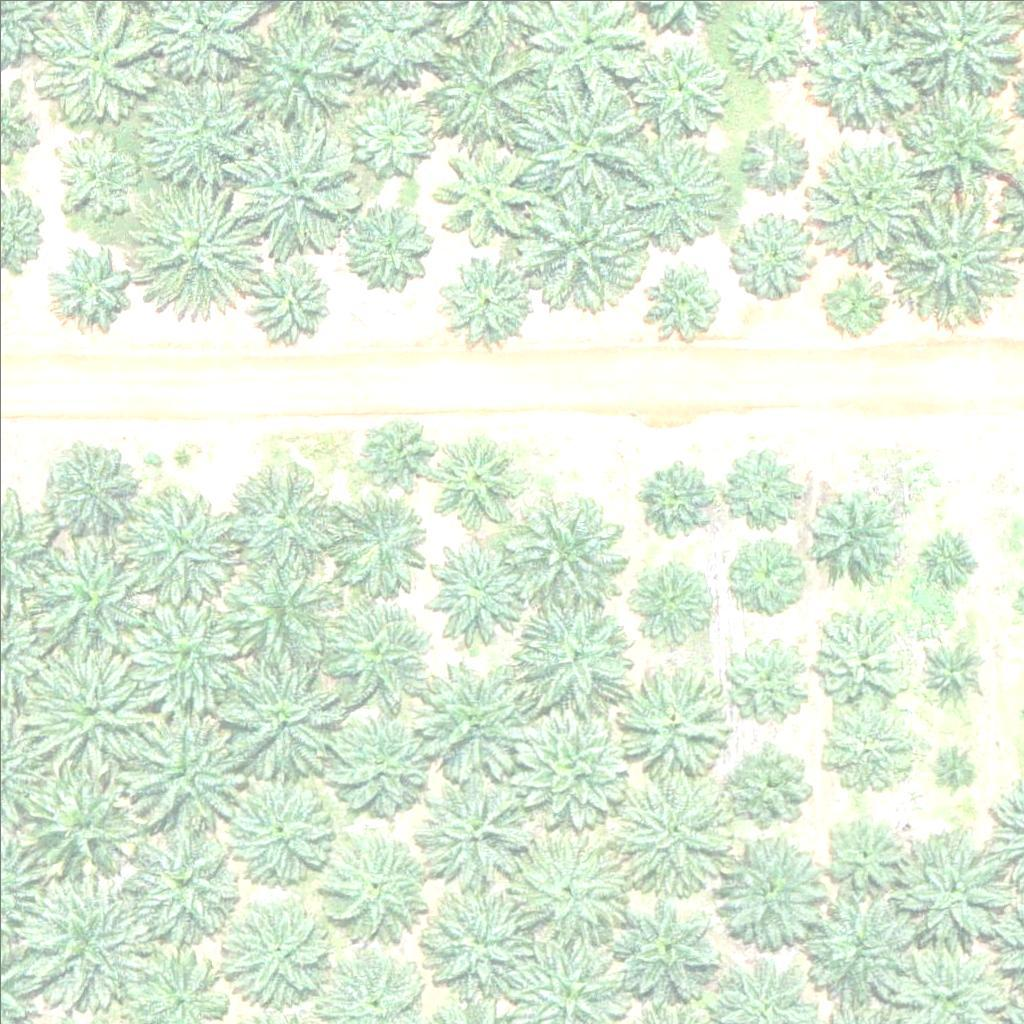Kelapa_Sawit: (134, 179, 259, 305), (227, 121, 352, 247), (520, 180, 645, 306), (890, 185, 1015, 311), (22, 643, 147, 769), (23, 767, 148, 893), (23, 881, 148, 1007), (120, 808, 245, 934), (516, 87, 641, 212), (802, 142, 915, 256), (142, 70, 255, 183), (613, 138, 726, 251), (899, 80, 1012, 193), (225, 454, 338, 567), (223, 557, 336, 670), (219, 669, 332, 782), (321, 603, 434, 716), (421, 893, 534, 1006), (424, 775, 537, 888), (511, 501, 624, 614), (621, 669, 734, 782), (718, 829, 831, 942), (814, 900, 927, 1013), (901, 839, 1013, 953), (247, 15, 359, 128), (427, 33, 539, 146), (808, 15, 920, 128), (33, 532, 145, 645), (126, 716, 238, 829), (127, 601, 239, 714), (124, 486, 236, 599), (219, 785, 331, 898), (223, 898, 335, 1011), (416, 671, 528, 784), (420, 525, 532, 638), (515, 835, 627, 948), (517, 716, 629, 829), (521, 601, 633, 714), (619, 779, 731, 892), (432, 136, 532, 237), (434, 247, 534, 348), (31, 443, 131, 544), (320, 841, 420, 942), (329, 717, 429, 818), (328, 495, 428, 596), (617, 894, 717, 995), (808, 482, 908, 583), (730, 205, 818, 294), (639, 48, 727, 136), (436, 438, 524, 526), (825, 704, 913, 792), (817, 610, 905, 698), (639, 252, 726, 340), (632, 557, 719, 645), (730, 746, 805, 822), (741, 113, 816, 189), (59, 242, 134, 318), (60, 134, 135, 210), (252, 255, 327, 331), (351, 207, 426, 283), (353, 90, 428, 166), (636, 453, 711, 529), (728, 631, 803, 707), (725, 449, 800, 525), (832, 813, 907, 889), (740, 539, 803, 602), (916, 521, 979, 584), (819, 274, 882, 337), (366, 422, 429, 485), (926, 649, 976, 699), (930, 750, 968, 788)
